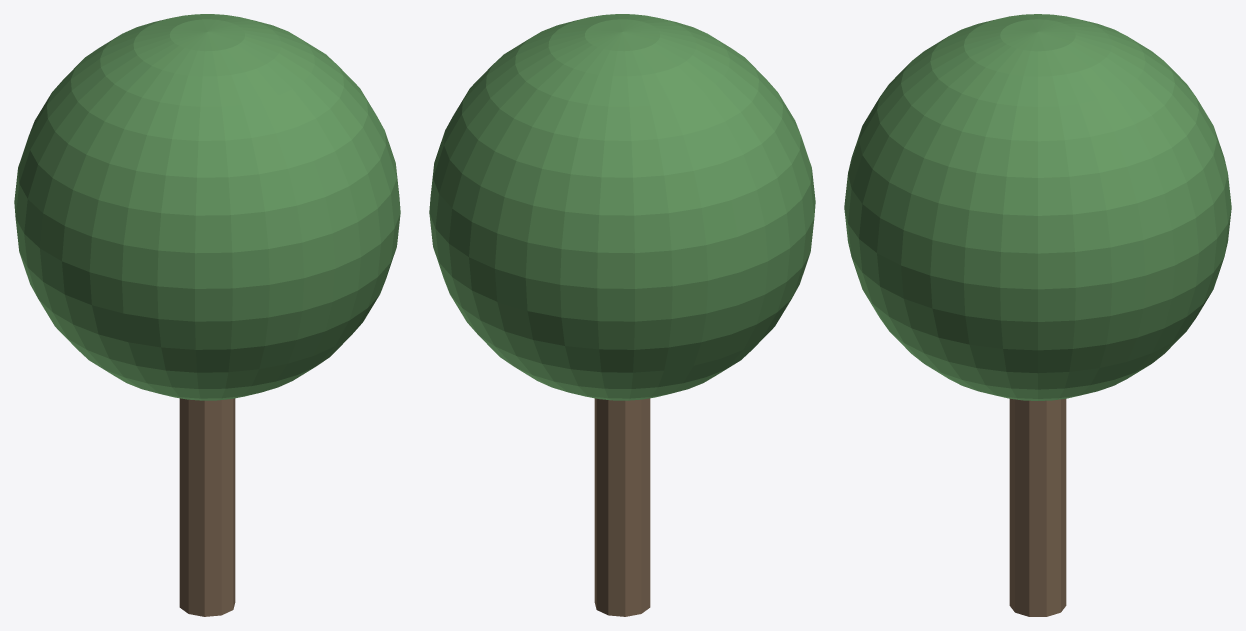
File: tree.glb
3 views of the same model, side by side, from view 1: azimuth 30°, elevation 25°; view 2: azimuth 150°, elevation 25°; view 3: azimuth 270°, elevation 25° (orthographic).
Parts seen in each view (by area): view 1: Sphere, trunk; view 2: Sphere, trunk; view 3: Sphere, trunk.
Part boxes in pixels (x1,y1,x2,y2): Sphere: (14, 14, 400, 400); trunk: (179, 398, 235, 616); Sphere: (429, 14, 815, 400); trunk: (594, 398, 650, 616); Sphere: (844, 14, 1231, 400); trunk: (1009, 399, 1066, 616).
Size of the model in its own units: 3 by 4.9 by 3.
